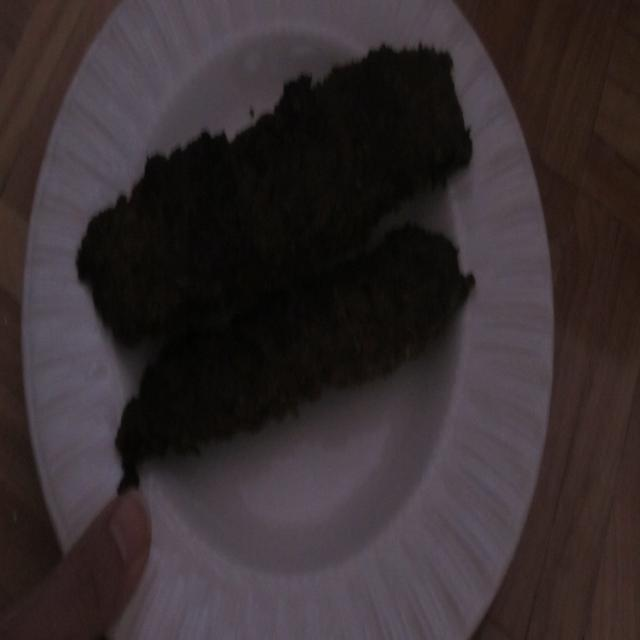cutlet: (54, 40, 497, 418)
